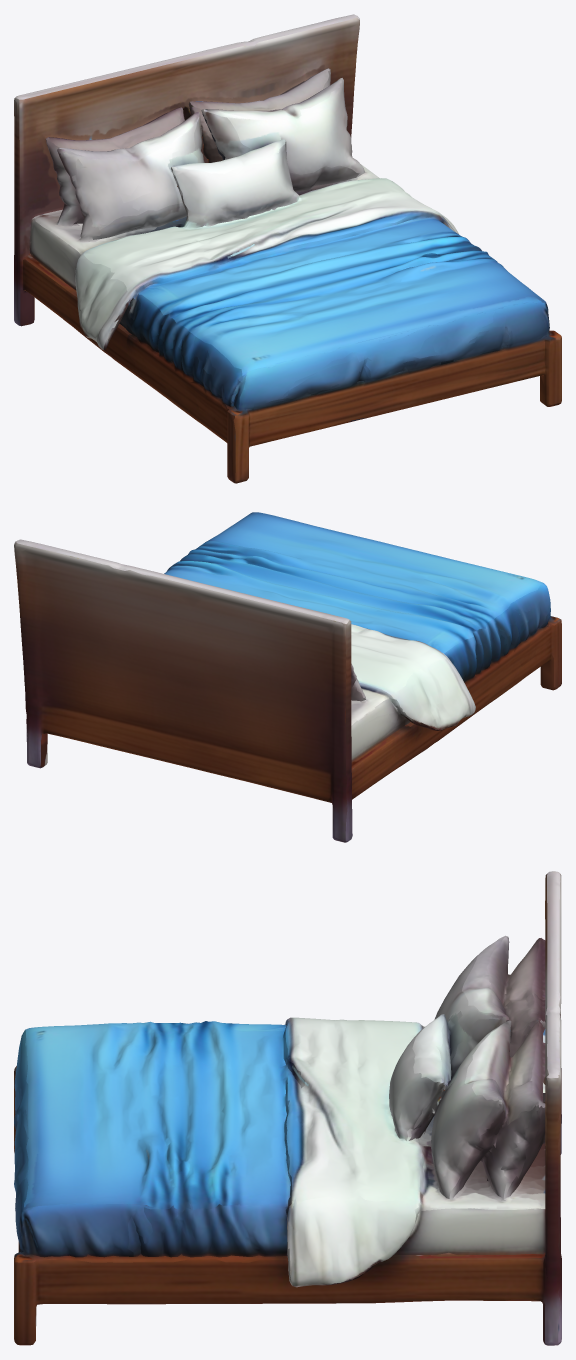
The model's file is bed.fbx.
3 renders of one model, top to bottom at view 1: azimuth 30°, elevation 25°; view 2: azimuth 150°, elevation 25°; view 3: azimuth 270°, elevation 25°, orthographic. The views are drawn at different scales.
Visible parts, largest first — view 1: tmppvbmwjsu.ply; view 2: tmppvbmwjsu.ply; view 3: tmppvbmwjsu.ply.
Part boxes in pixels (bbox=[...]): tmppvbmwjsu.ply: bbox=[14, 14, 561, 483]; tmppvbmwjsu.ply: bbox=[14, 512, 561, 842]; tmppvbmwjsu.ply: bbox=[14, 871, 561, 1345].
Bounding box in the file's own units: 192 × 112 × 199.
1 material, 1 textured.
